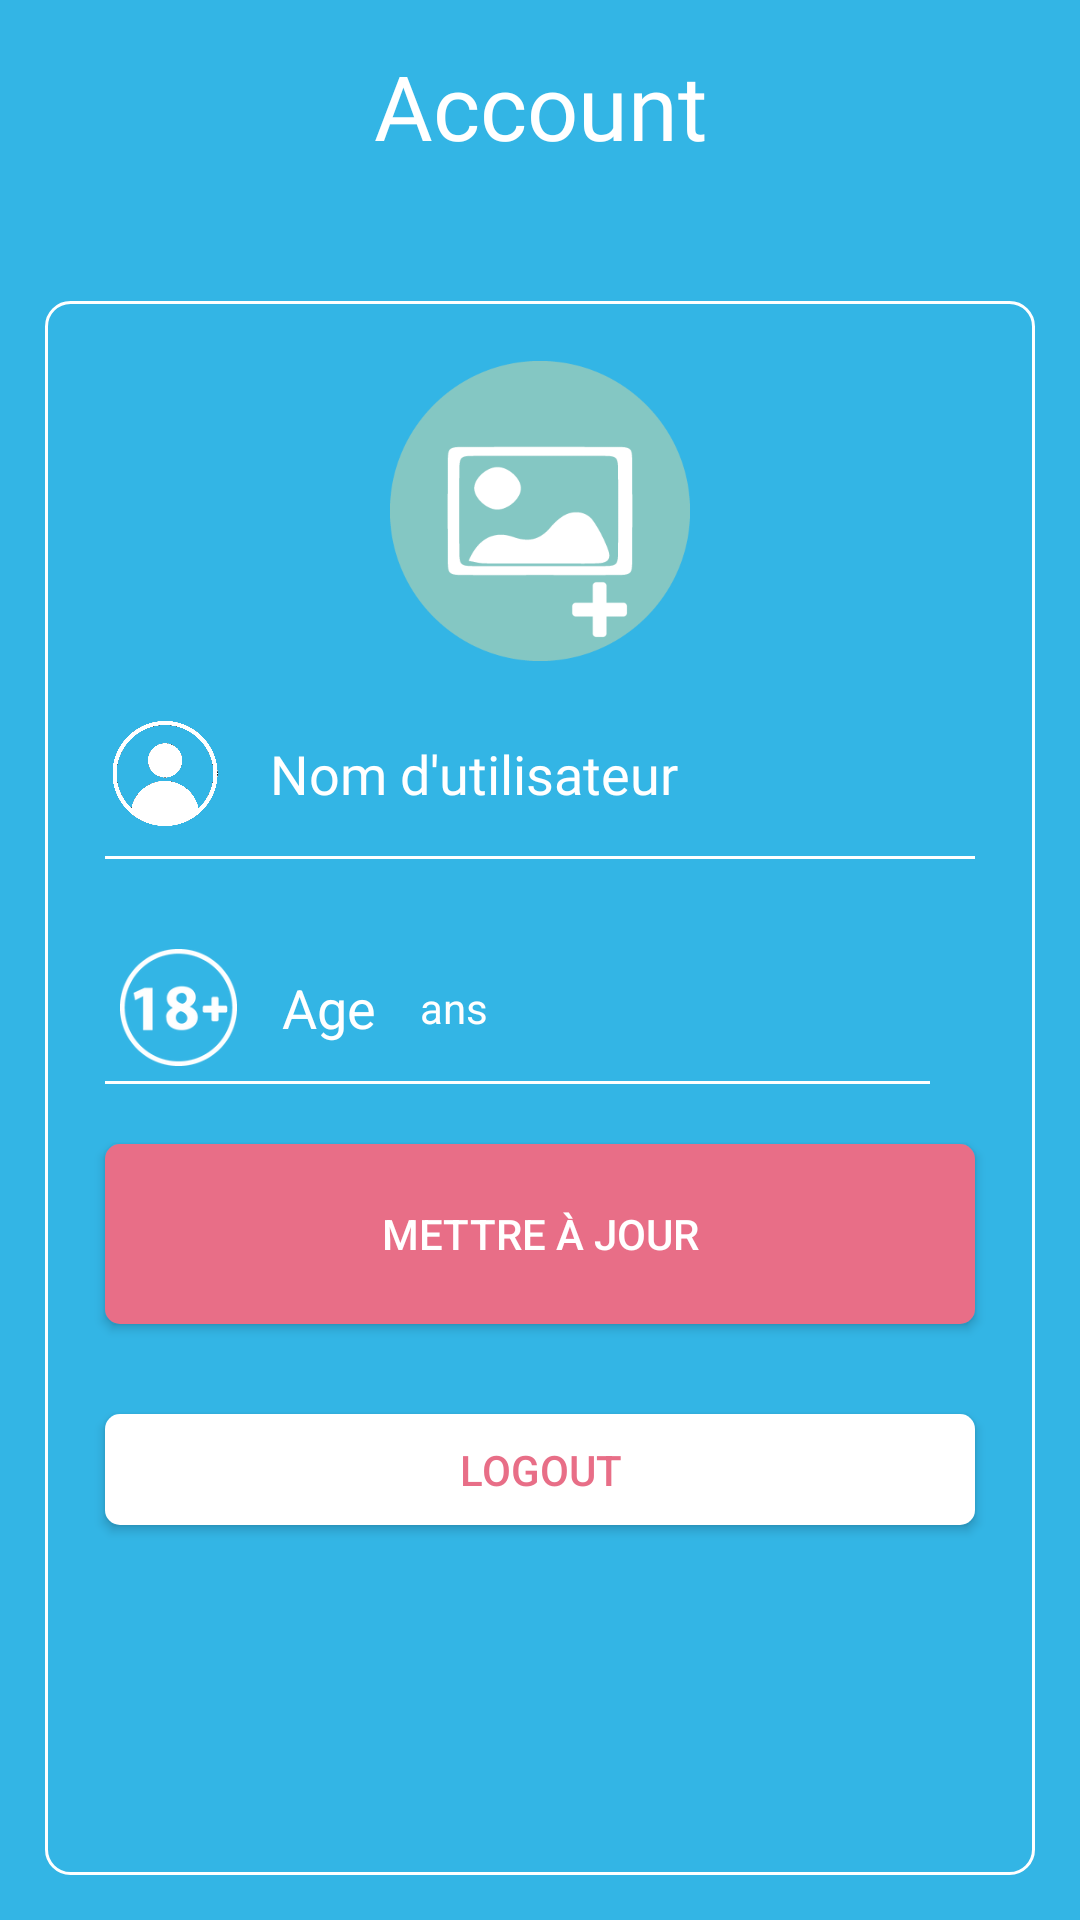

Named icons in this screenshot (1080 x 1920) and their bounding boxes, (x1, y1, x2, y2):
quickadd: (390, 361, 690, 661)
user: (113, 721, 218, 826)
